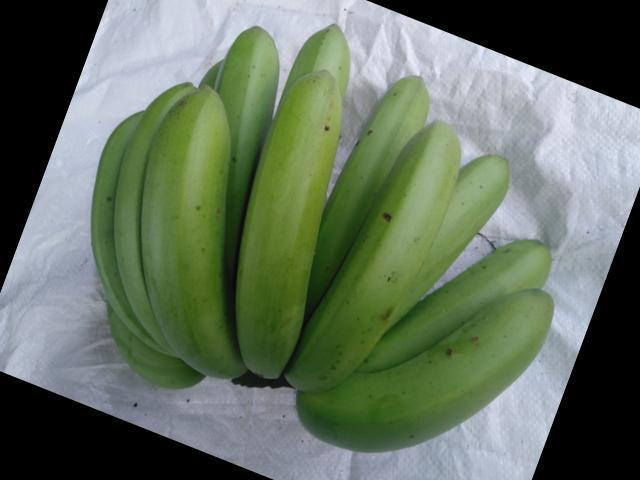freshunripe: (281, 121, 471, 419), (274, 284, 564, 453), (228, 63, 347, 378), (138, 84, 232, 407), (203, 18, 287, 129)
